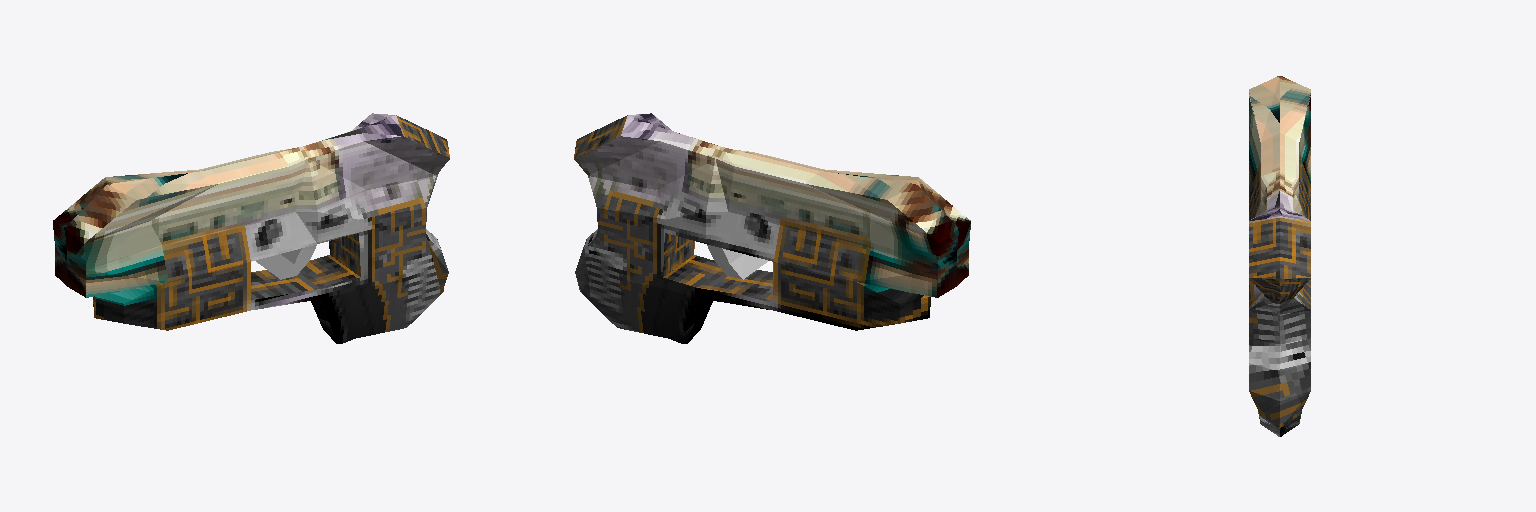
3 renders of one model, left to right at view 1: azimuth 30°, elevation 25°; view 2: azimuth 150°, elevation 25°; view 3: azimuth 270°, elevation 25°, orthographic.
Visible parts, largest first — view 1: full_gun; view 2: full_gun; view 3: full_gun.
Boxes of the visible parts, box(x1,y1,x2,y2) form: full_gun: box(53, 113, 449, 343); full_gun: box(574, 113, 970, 343); full_gun: box(1249, 76, 1310, 436).
Size of the model in its own units: 0.6086 by 0.3288 by 0.0861.
Materials: 1 (1 with a texture image).